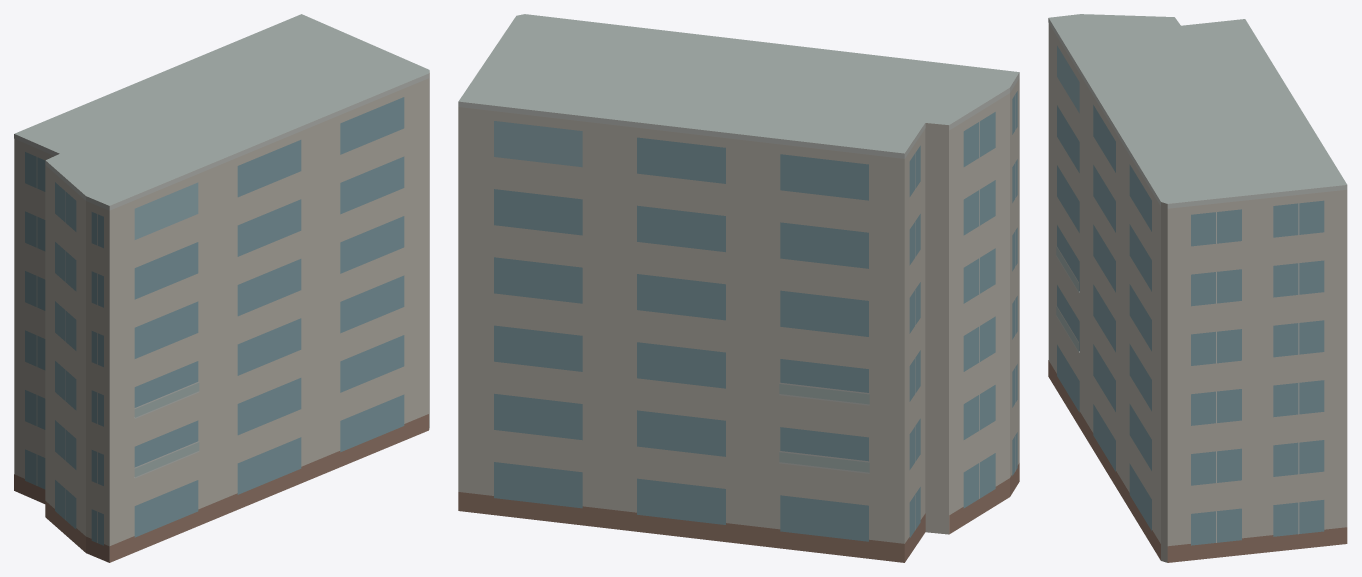
The model's file is survey-upis-32664708.glb.
3 views of the same model, side by side, from view 1: azimuth 30°, elevation 25°; view 2: azimuth 150°, elevation 25°; view 3: azimuth 270°, elevation 25° (orthographic). The views are drawn at different scales.
Parts seen in each view (by area): view 1: survey-upis-32664708.tmp; view 2: survey-upis-32664708.tmp; view 3: survey-upis-32664708.tmp.
Boxes of the visible parts, box(x1,y1,x2,y2) form: survey-upis-32664708.tmp: box(14, 14, 429, 562); survey-upis-32664708.tmp: box(458, 14, 1019, 562); survey-upis-32664708.tmp: box(1048, 14, 1347, 562).
Bounding box in the file's own units: 20.78 × 18.3 × 13.82.
